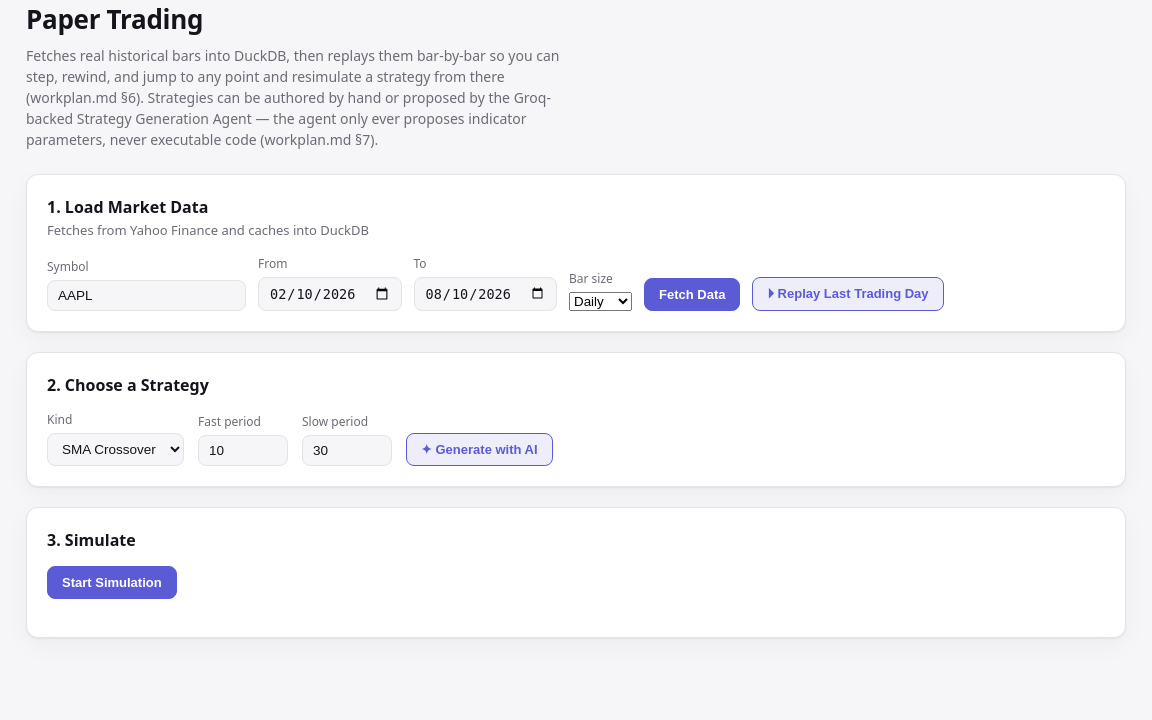
Test: PaperTrading page › performance section › stays hidden until the replay has produced at least one bar
The width and height of the screenshot is (1152, 720).
Click the button "Start Simulation": {"x": 112, "y": 582} [47,566,177,598]
(page scrolled)
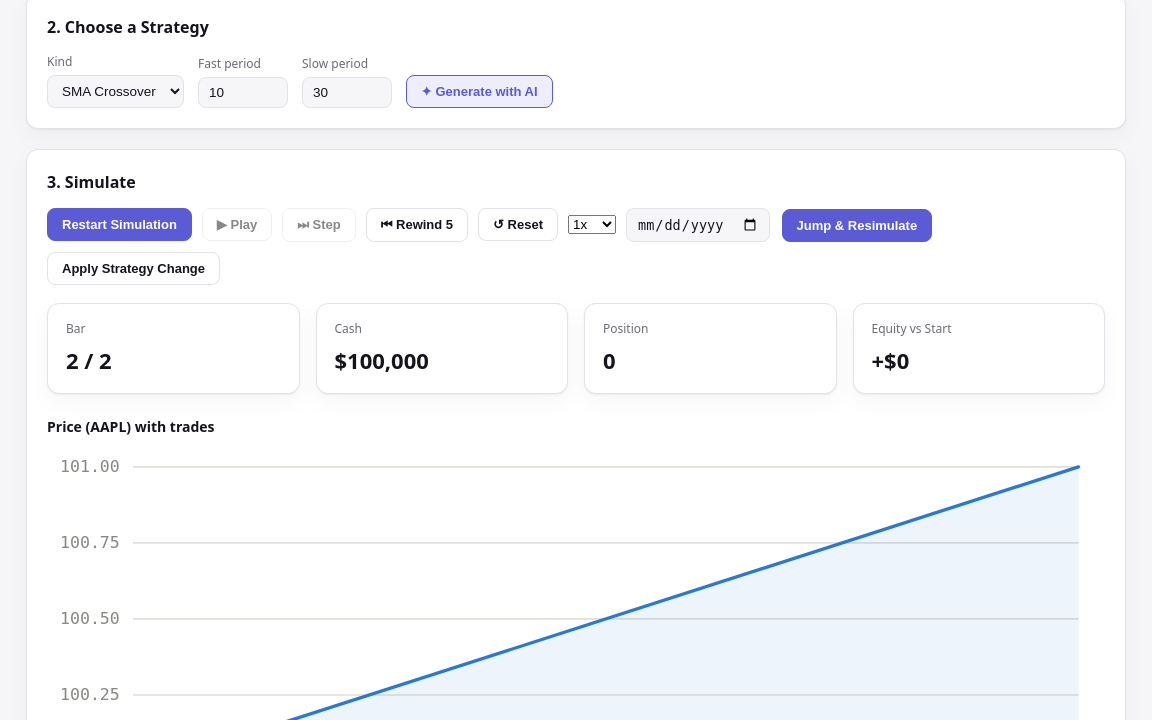
Result: the text "2 / 2" is shown at [66,344,112,374]
